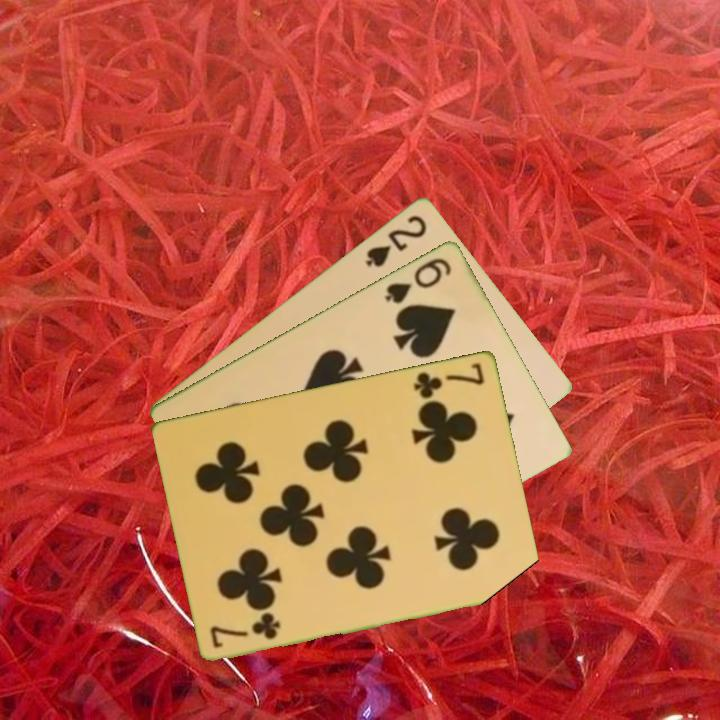2s: (362, 210, 430, 270)
6s: (381, 253, 455, 307)
7c: (410, 358, 487, 401), (207, 610, 284, 651)
